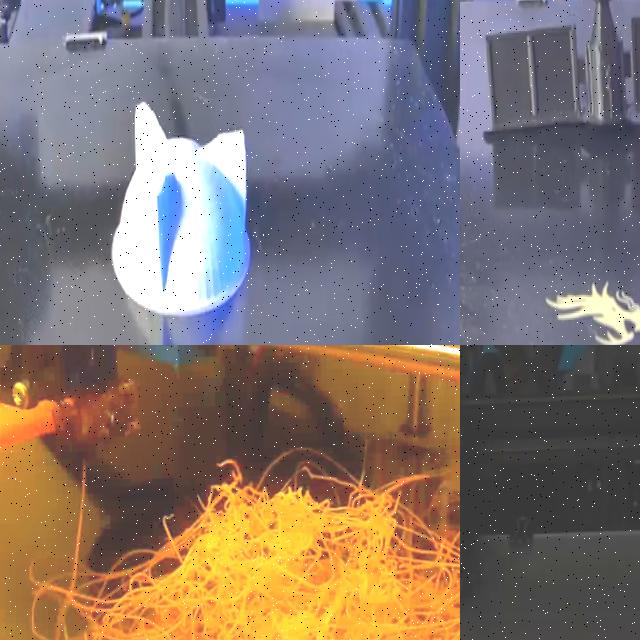spaghetti: (38, 459, 460, 640)
